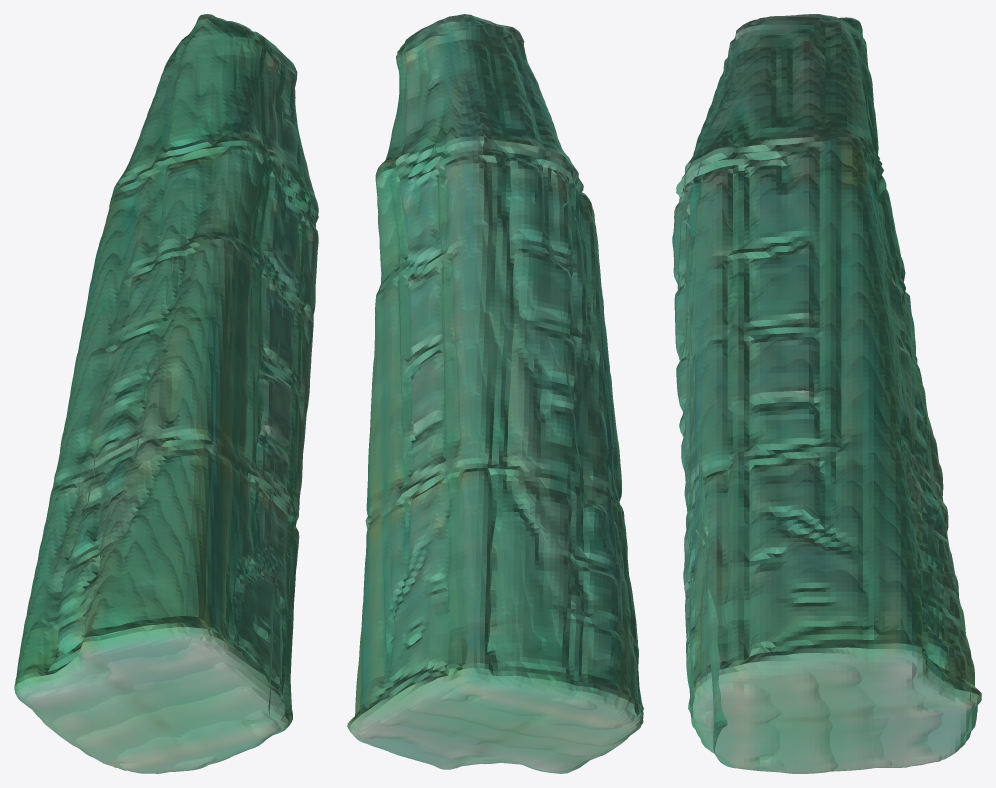
3 views of the same model, side by side, from view 1: azimuth 30°, elevation 25°; view 2: azimuth 150°, elevation 25°; view 3: azimuth 270°, elevation 25° (orthographic). The views are drawn at different scales.
Parts seen in each view (by area): view 1: geometry_0; view 2: geometry_0; view 3: geometry_0.
Part boxes in pixels (x1=…): geometry_0: x1=14, y1=14, x2=318, y2=773; geometry_0: x1=347, y1=14, x2=643, y2=773; geometry_0: x1=672, y1=14, x2=981, y2=773.
Size of the model in its own units: 0.5495 by 1.6 by 0.6029.
